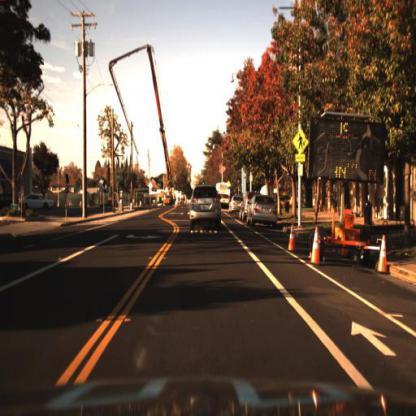car: (184, 184, 224, 233), (246, 193, 279, 229), (24, 192, 55, 213), (238, 193, 249, 227), (229, 195, 239, 221)
truck: (108, 43, 177, 209), (215, 177, 233, 212)
